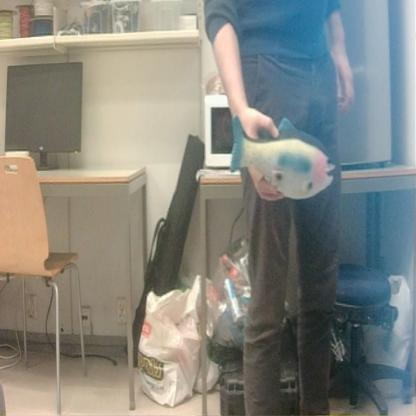rubberfish: (226, 106, 337, 209)
